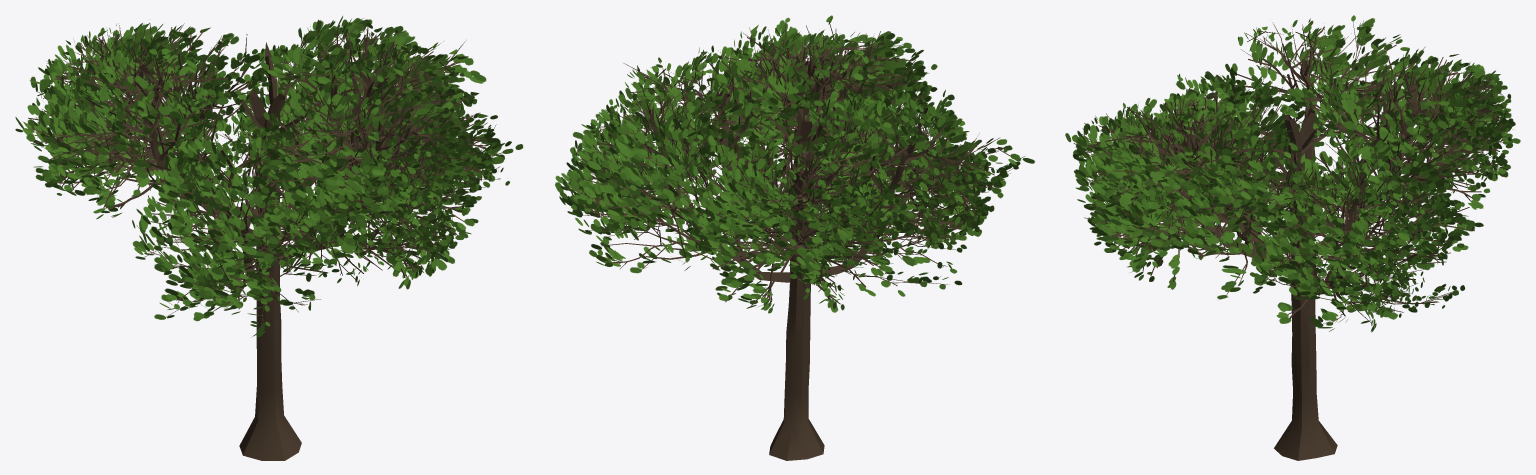
3 renders of one model, left to right at view 1: azimuth 30°, elevation 25°; view 2: azimuth 150°, elevation 25°; view 3: azimuth 270°, elevation 25°, orthographic. The views are drawn at different scales.
Parts seen in each view (by area): view 1: oak 01.001_trunk_Mat.001_0.005; view 2: oak 01.001_trunk_Mat.001_0.005; view 3: oak 01.001_trunk_Mat.001_0.005.
Boxes of the visible parts, box(x1,y1,x2,y2) form: oak 01.001_trunk_Mat.001_0.005: box(15, 16, 523, 460); oak 01.001_trunk_Mat.001_0.005: box(555, 15, 1034, 460); oak 01.001_trunk_Mat.001_0.005: box(1065, 15, 1520, 460).
Bounding box in the file's own units: 4.57 × 3.76 × 4.41.
2 materials, 1 textured.
